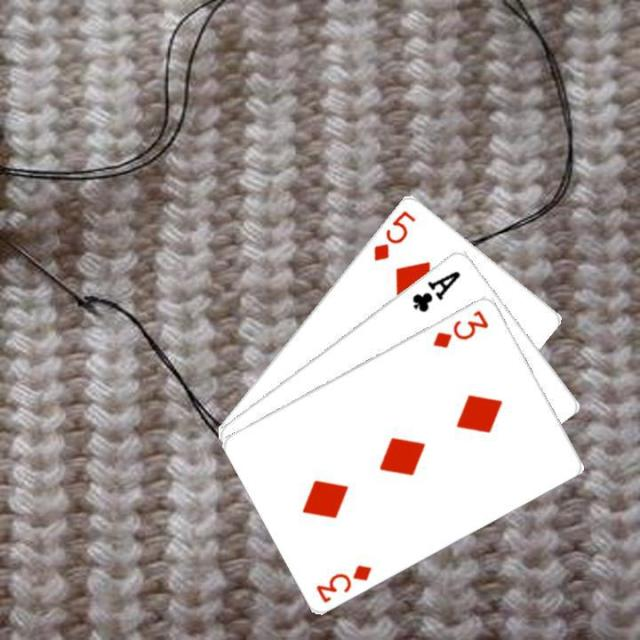3D: (428, 305, 491, 349), (312, 560, 374, 604)
5D: (369, 205, 418, 262)
AC: (408, 266, 463, 314)
